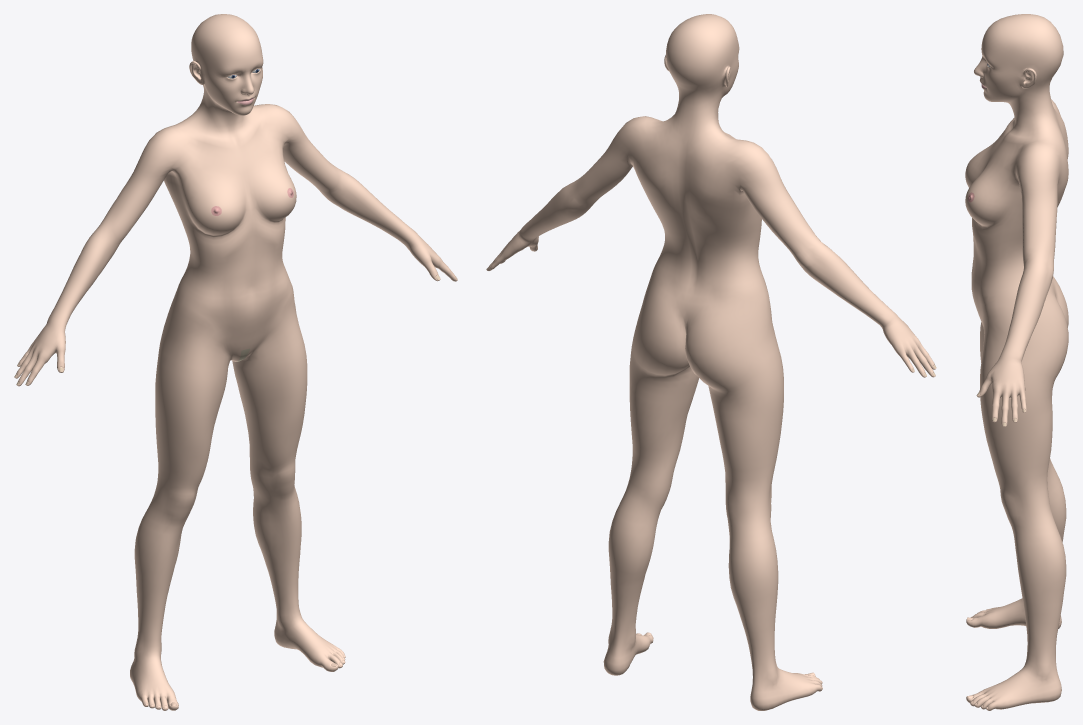
File: Character_R.glb
3 views of the same model, side by side, from view 1: azimuth 30°, elevation 25°; view 2: azimuth 150°, elevation 25°; view 3: azimuth 270°, elevation 25° (orthographic). The views are drawn at different scales.
Parts seen in each view (by area): view 1: Genesis8Female_Shape; view 2: Genesis8Female_Shape; view 3: Genesis8Female_Shape.
Part boxes in pixels (bbox=[...]): Genesis8Female_Shape: bbox=[14, 14, 457, 710]; Genesis8Female_Shape: bbox=[486, 14, 936, 710]; Genesis8Female_Shape: bbox=[965, 14, 1068, 710].
Bounding box in the file's own units: 1.26 × 1.79 × 0.2587.
6 materials, 1 textured.
